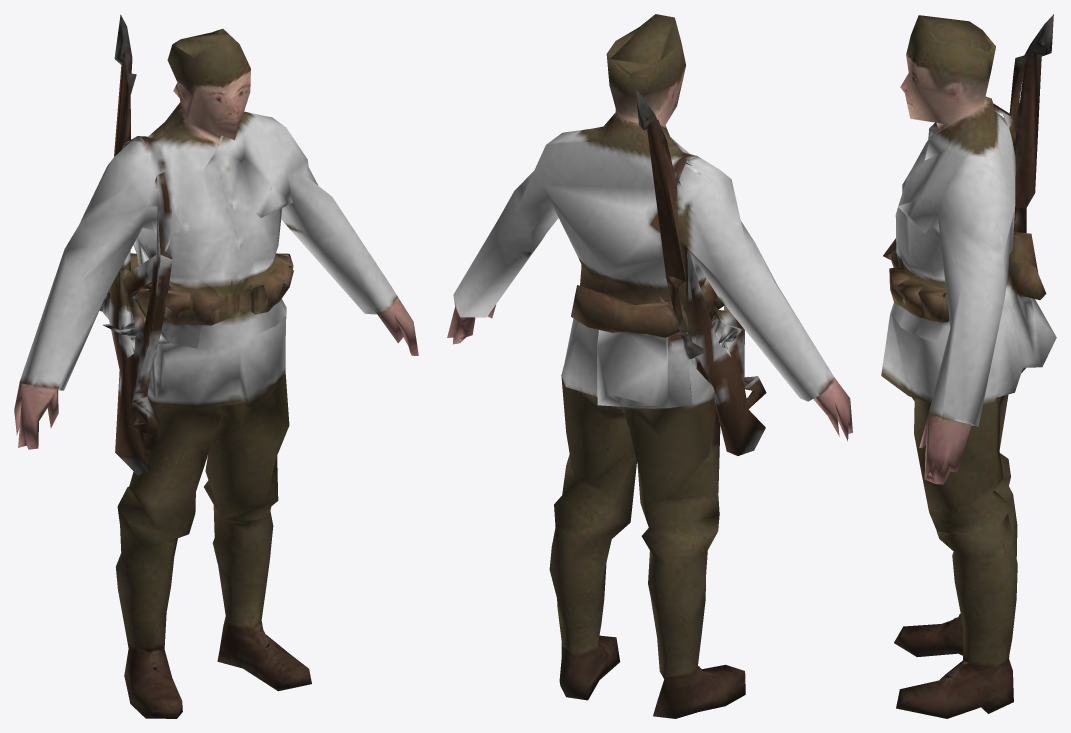
The model's file is realistic-cc0.a27e789144ee.rifleman.glb.
The picture shows the model from 3 angles, left to right: view 1: azimuth 30°, elevation 25°; view 2: azimuth 150°, elevation 25°; view 3: azimuth 270°, elevation 25°; orthographic projection.
Parts seen in each view (by area): view 1: rifleman; view 2: rifleman; view 3: rifleman.
Boxes of the visible parts, left/top/right/bottom form: rifleman: left=14, top=14, right=418, bottom=718; rifleman: left=447, top=14, right=852, bottom=718; rifleman: left=881, top=14, right=1056, bottom=718.
Bounding box in the file's own units: 1.12 × 1.8 × 0.4325.
Materials: 2 (2 with a texture image).
